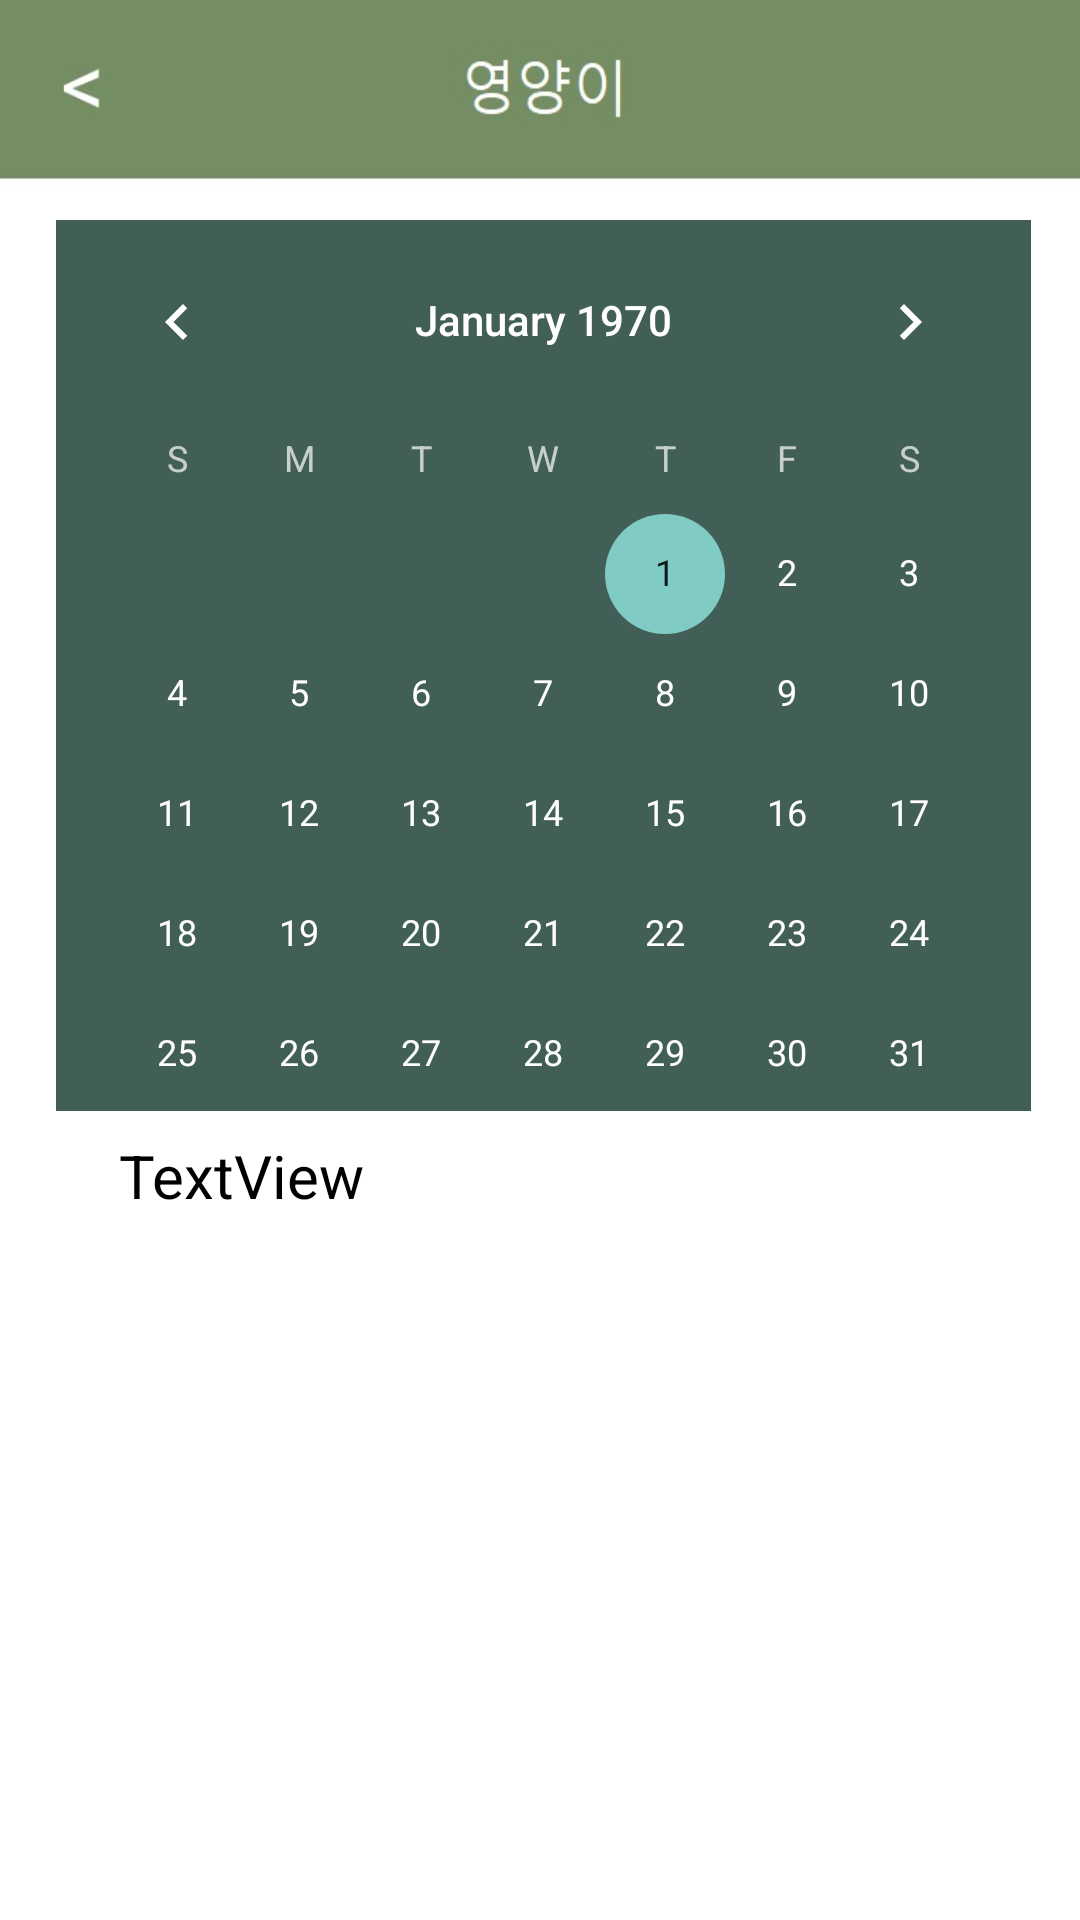

Icon click points for this 1080px x 1920px phone screenshot, format point (x, y):
backimage: point (81, 88)
